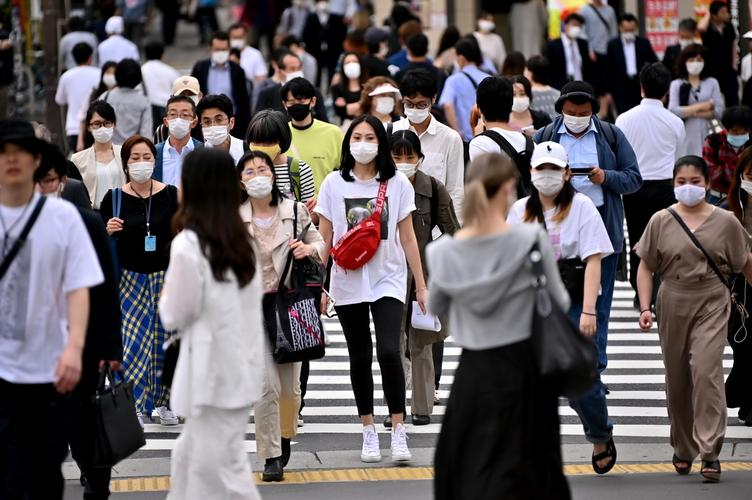mask: (672, 160, 710, 211), (560, 91, 591, 138), (124, 139, 157, 183), (533, 155, 567, 194), (349, 117, 377, 163), (202, 105, 232, 146), (403, 90, 433, 128), (91, 106, 115, 144)
